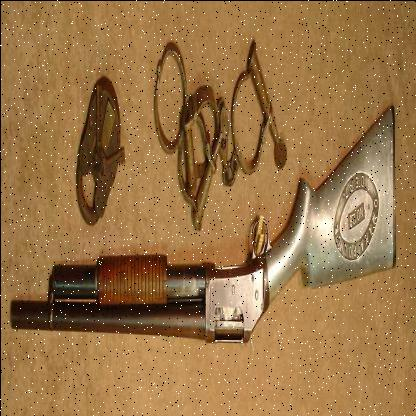rifle: (5, 78, 404, 389)
